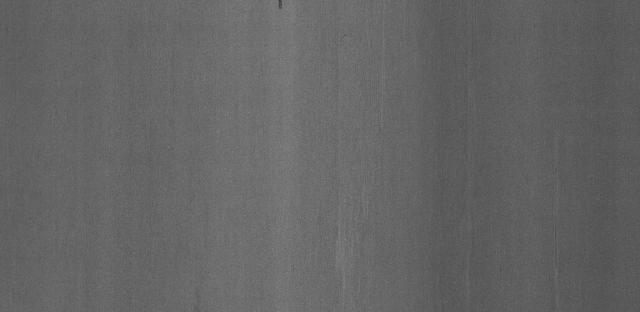inclusion: (268, 0, 295, 13)
